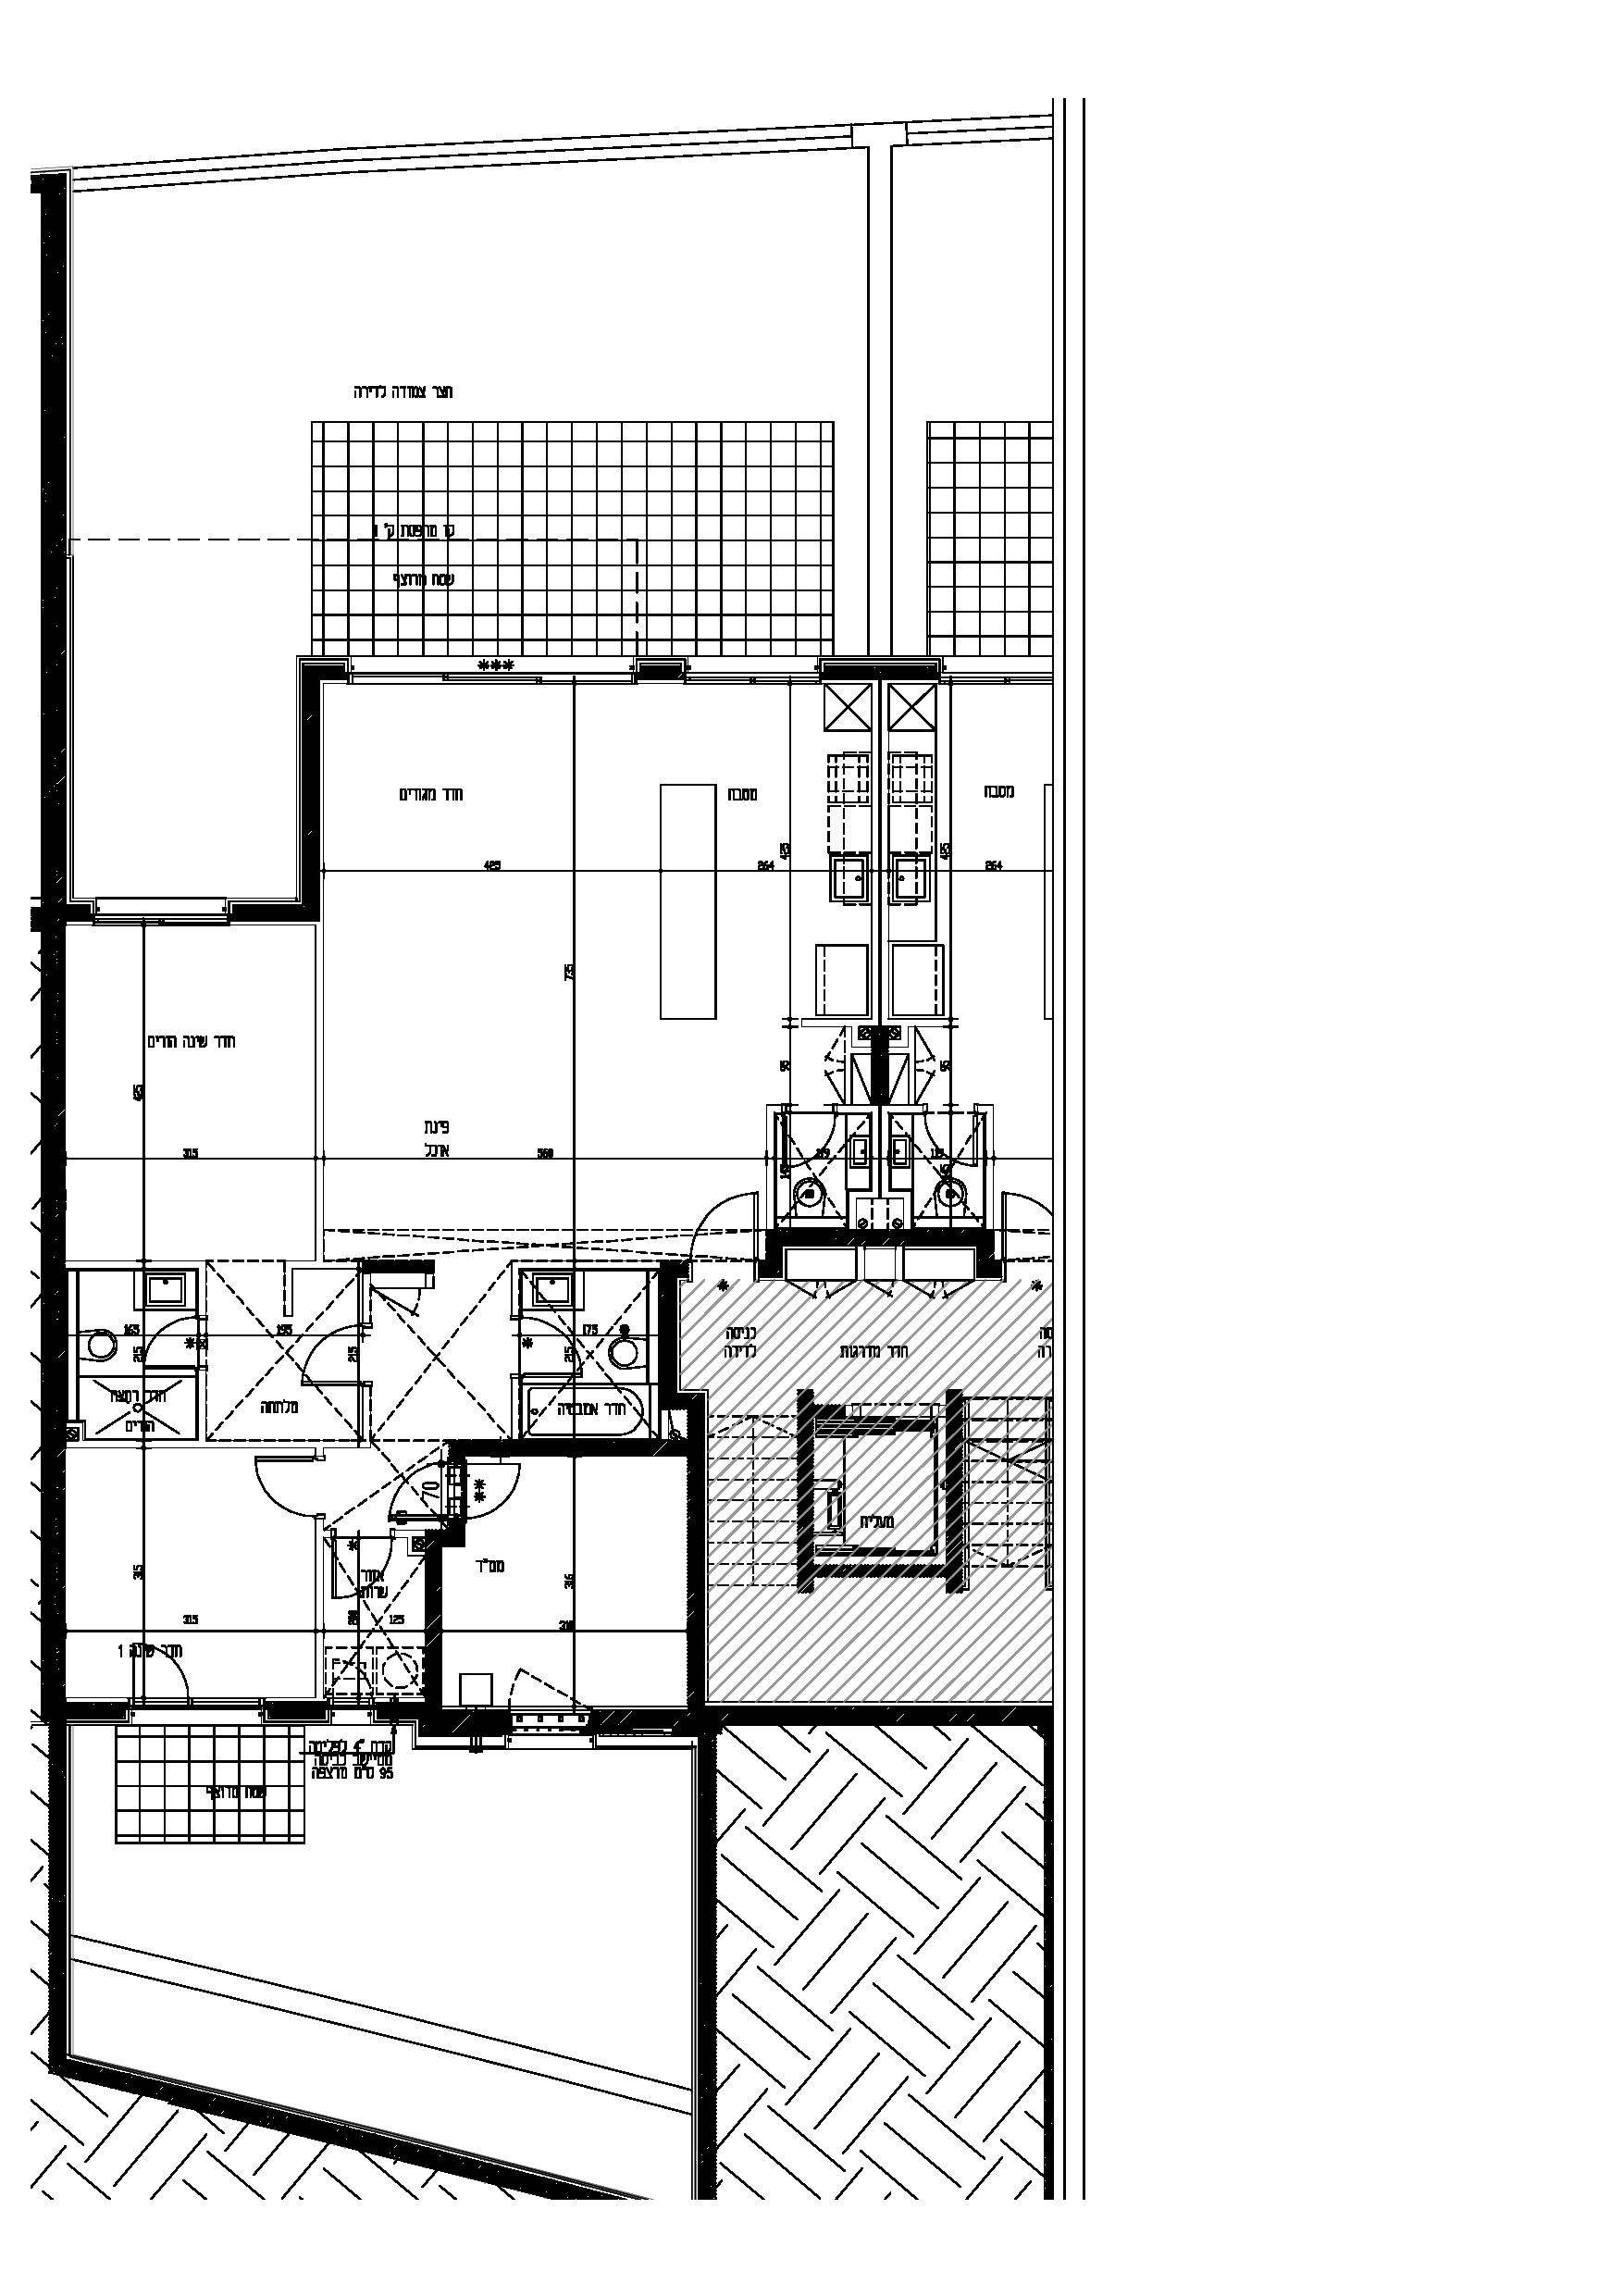door: (241, 1448, 311, 1527)
wall: (40, 170, 65, 1722), (692, 1388, 713, 2203), (729, 1706, 1036, 1727), (302, 659, 320, 917), (771, 1230, 994, 1249)
window: (186, 1699, 260, 1708)
